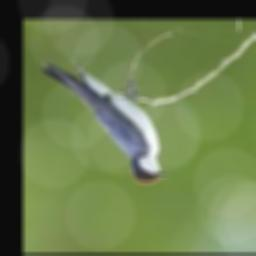Swallow: (40, 61, 169, 184)
